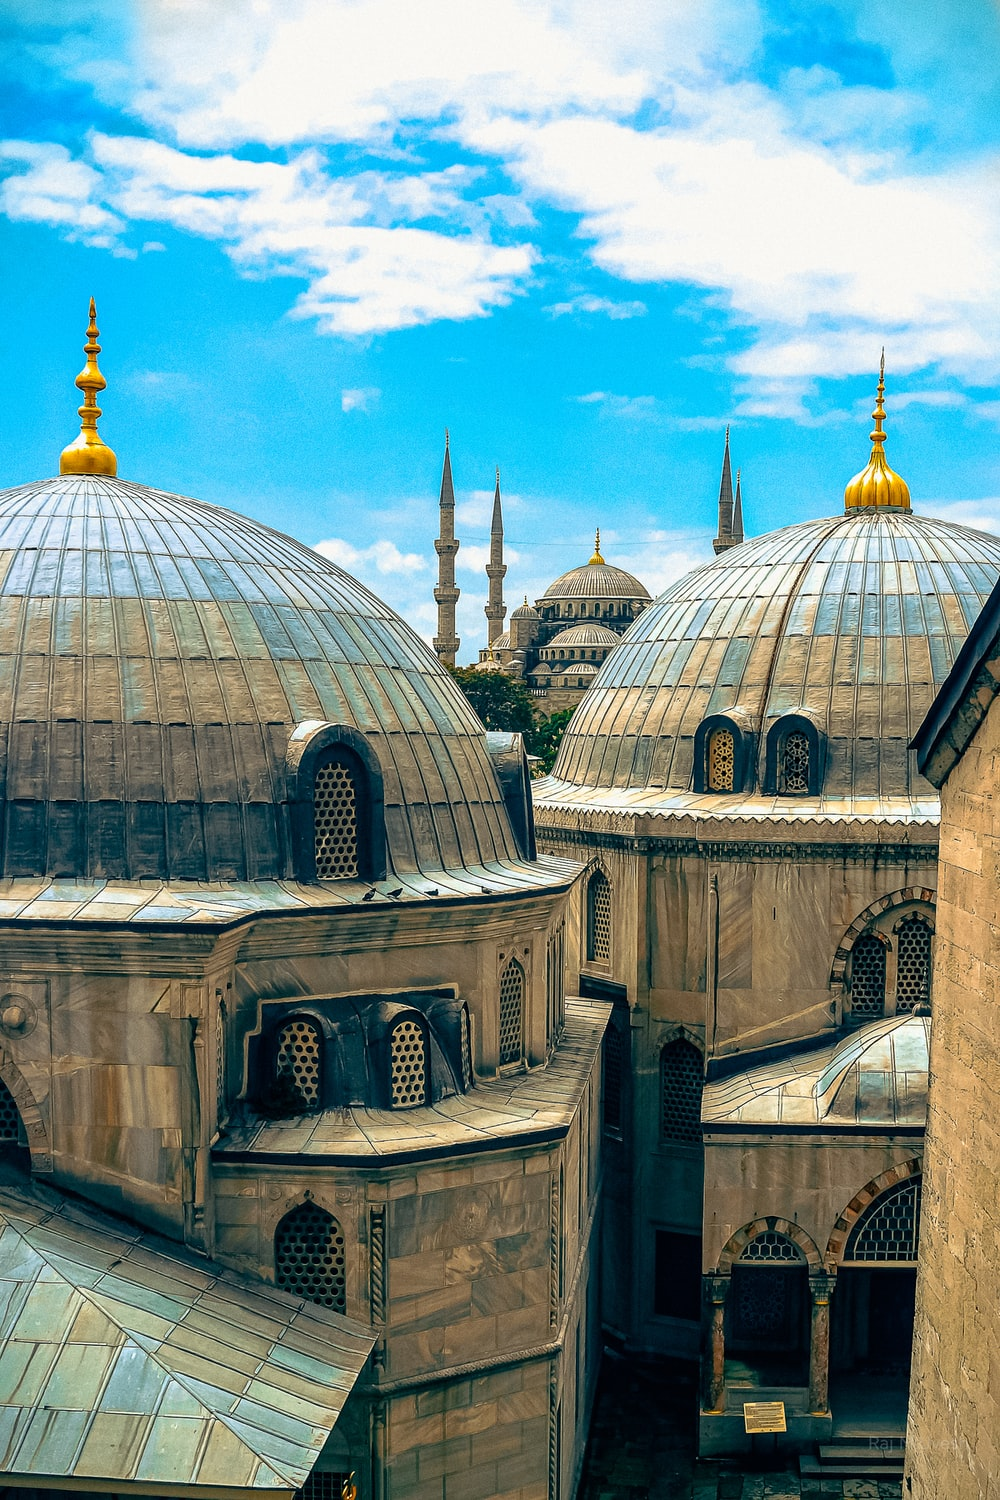Mosque: (10, 266, 989, 1455)
